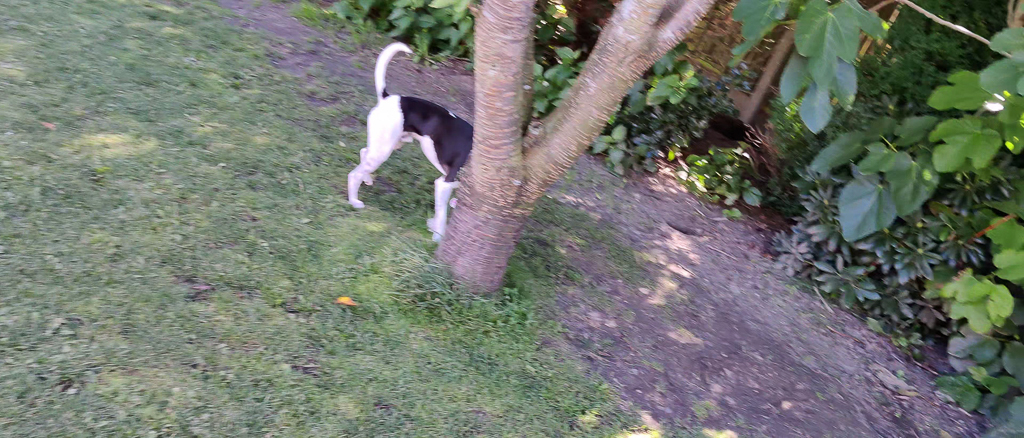Dog: (342, 36, 517, 256)
